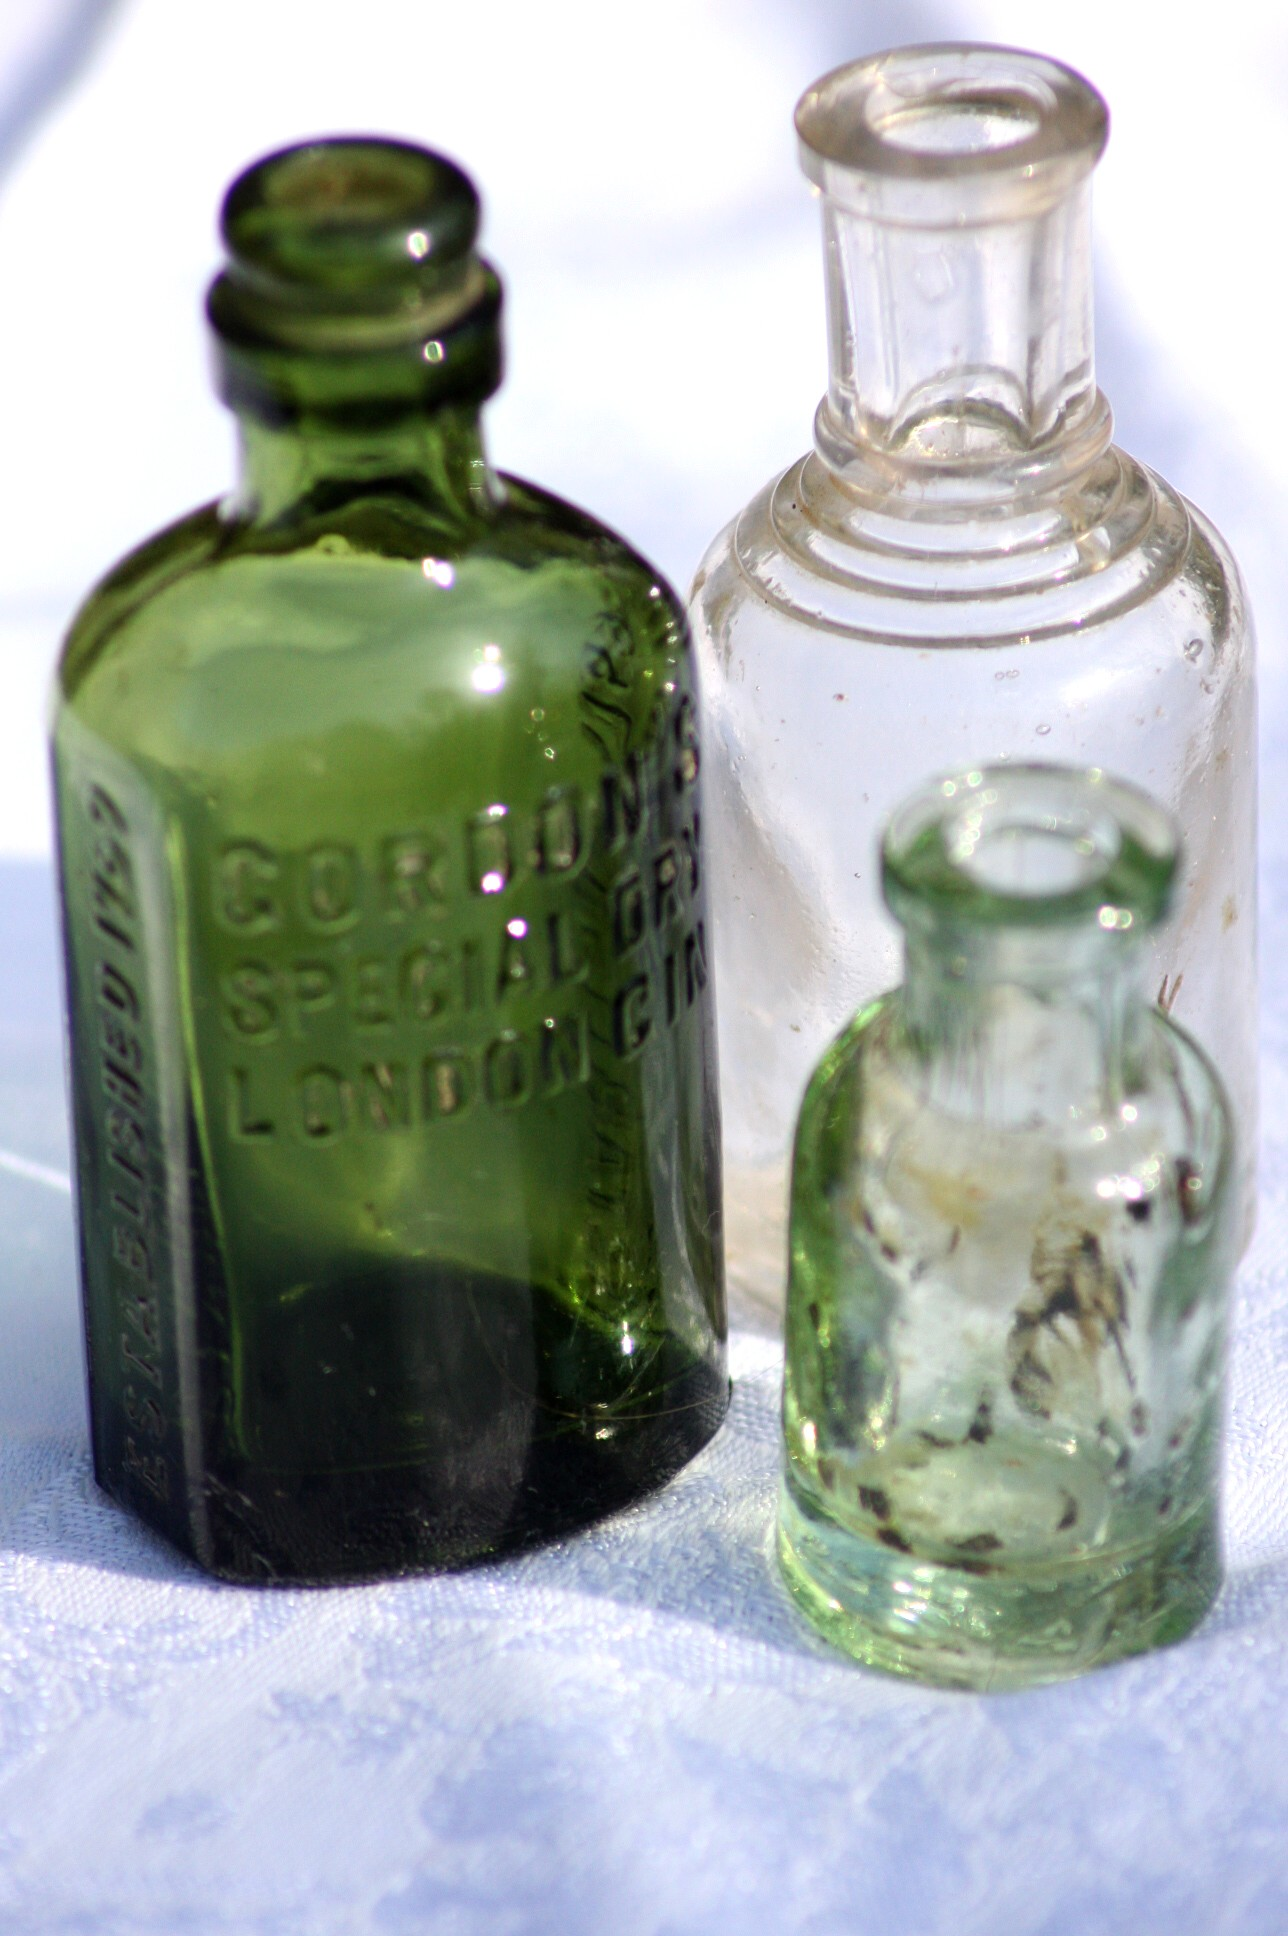bottle: (56, 134, 755, 1590), (674, 70, 1262, 1329), (785, 775, 1230, 1709)
